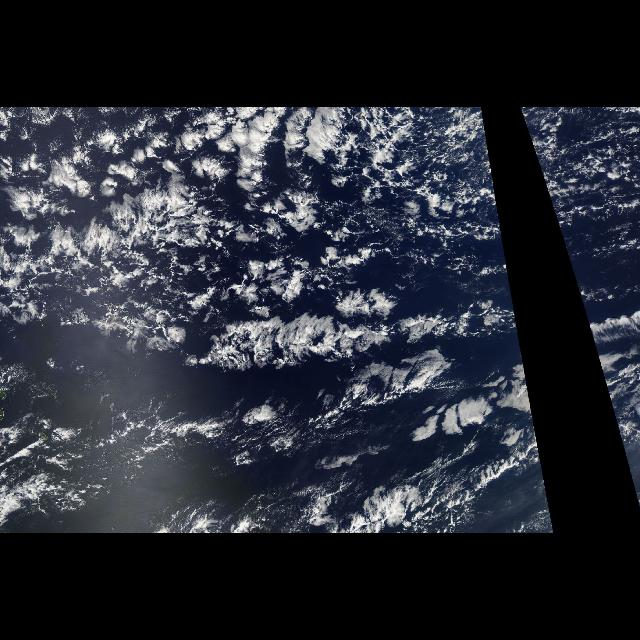Fish: (12, 211, 556, 534), (556, 222, 640, 510)
Flower: (17, 109, 343, 323)
